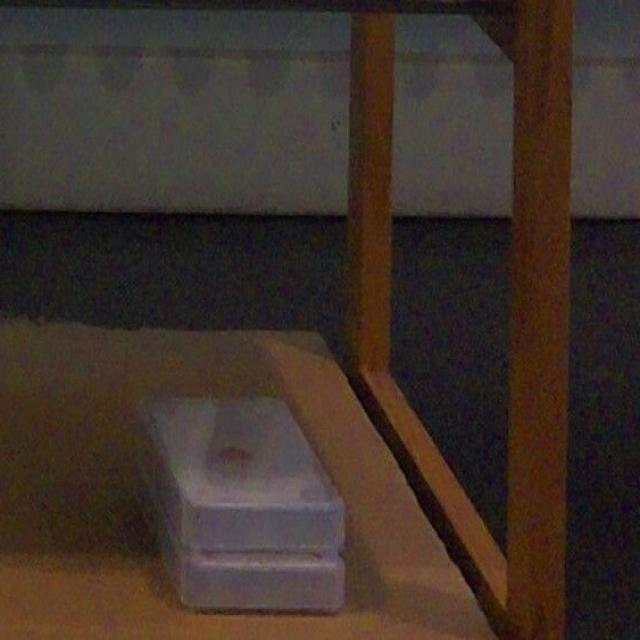Jasskarte: (135, 396, 344, 550), (138, 466, 344, 609)
